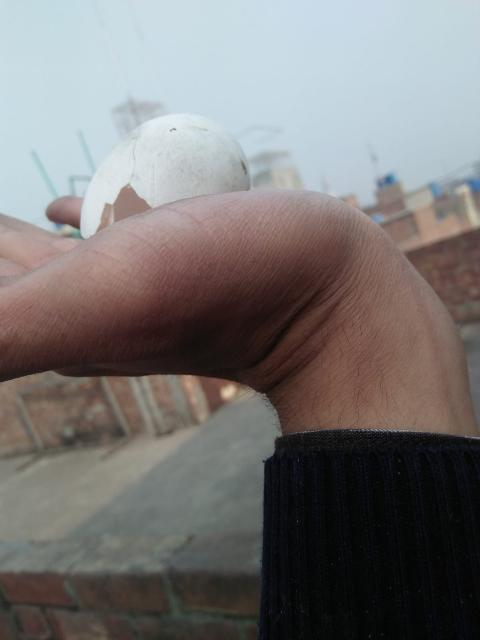Roto: (81, 111, 251, 239)
